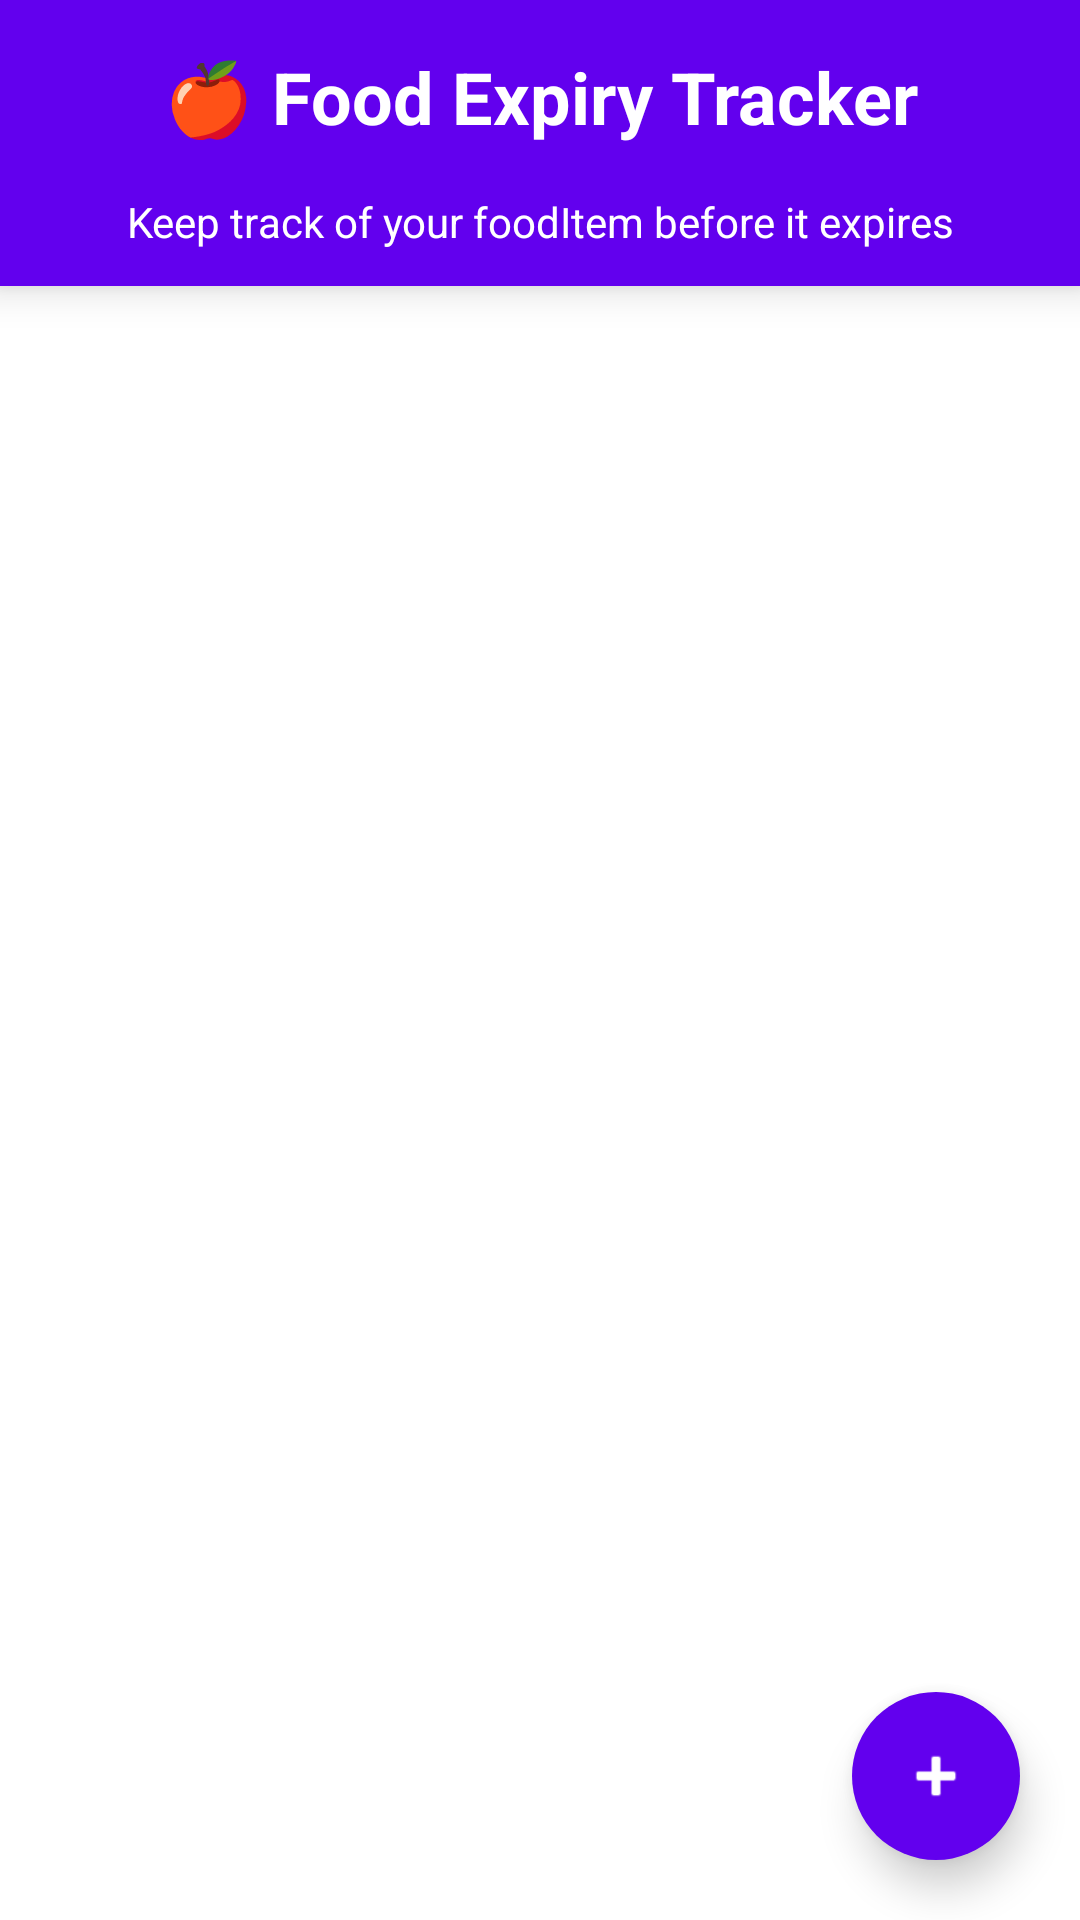

Where icons sit on this 1080×1920 app screen, as (x1, y1, x2, y2):
Add Food: (852, 1692, 1020, 1860)
